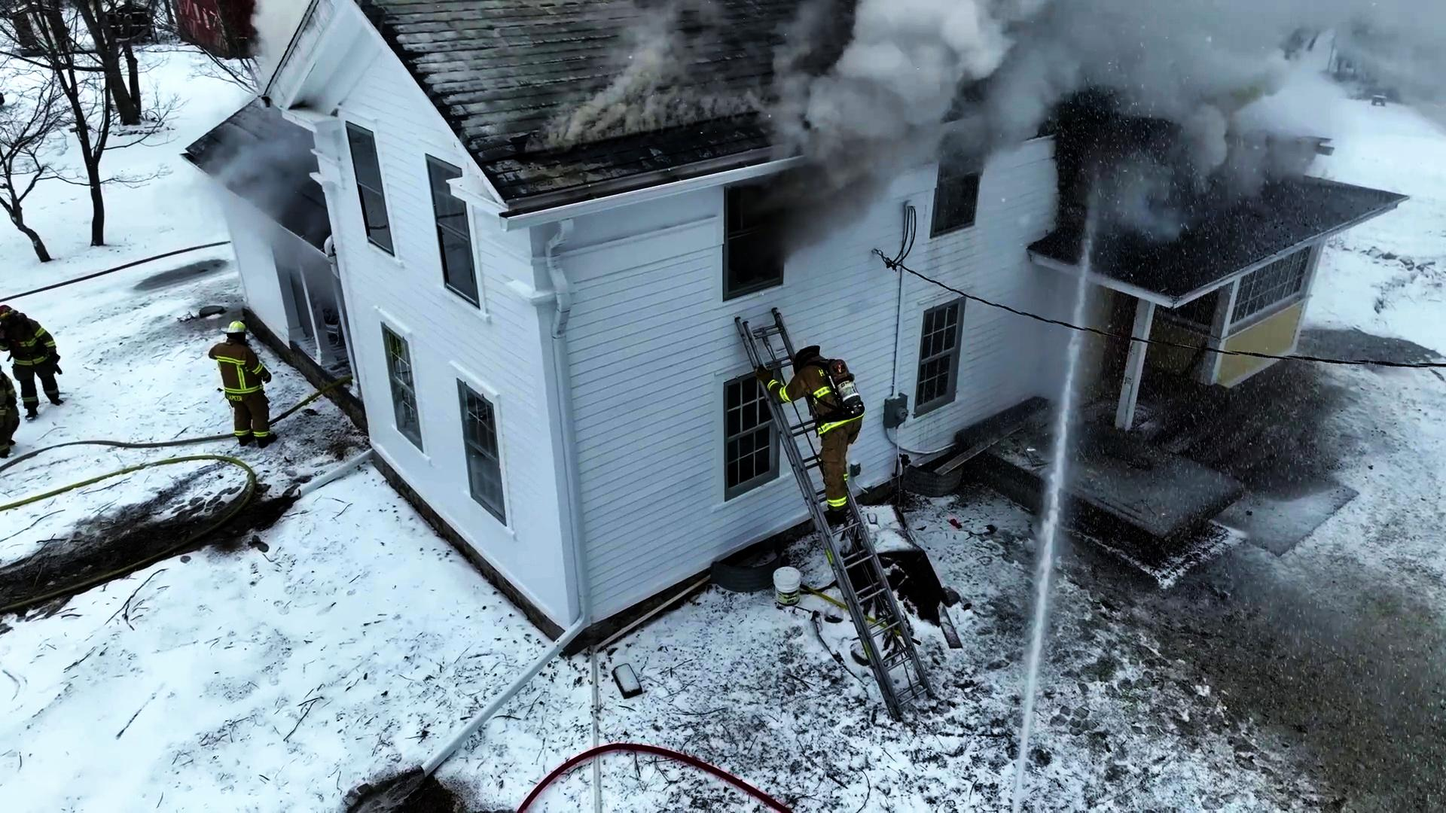smoke: (906, 0, 1308, 88)
